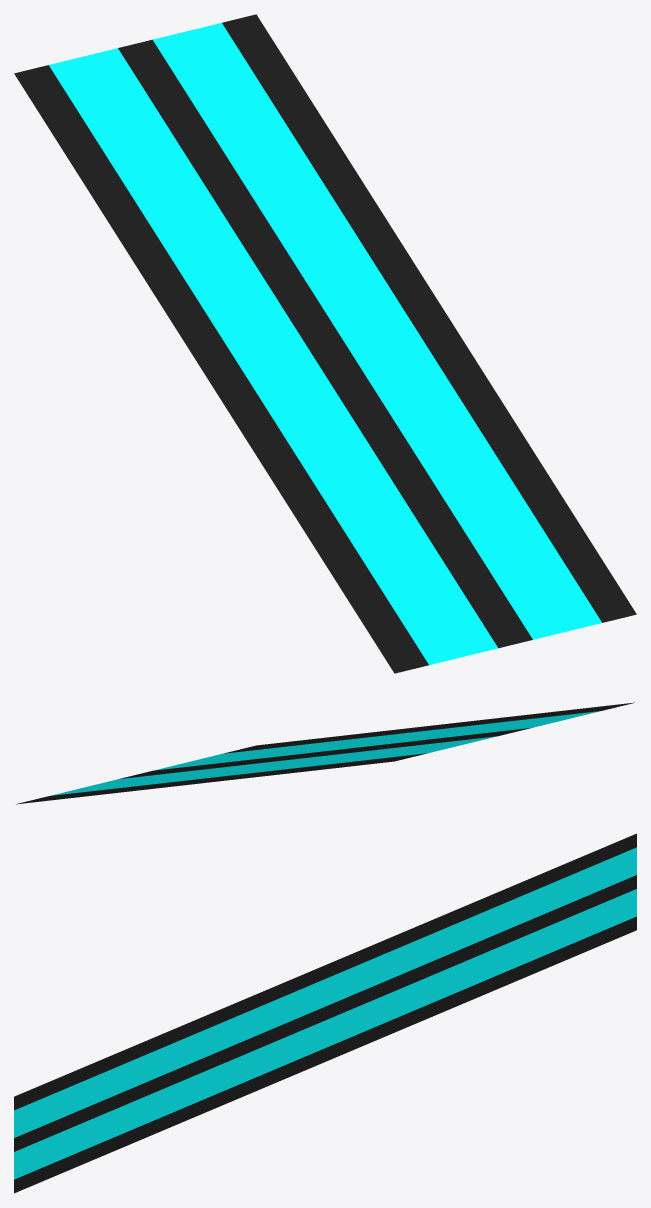
Rendered from RaceTrack_Up25Degree_15m 1.fbx.
3 views of the same model, one above another, from view 1: azimuth 30°, elevation 25°; view 2: azimuth 210°, elevation 25°; view 3: azimuth 270°, elevation 25° (orthographic). The views are drawn at different scales.
Visible parts, largest first — view 1: Up25Degree_15m; view 2: Up25Degree_15m; view 3: Up25Degree_15m.
Boxes of the visible parts, bbox=[...] form: Up25Degree_15m: bbox=[14, 14, 636, 673]; Up25Degree_15m: bbox=[16, 702, 634, 804]; Up25Degree_15m: bbox=[14, 833, 636, 1193].
Bounding box in the file's own units: 5 × 6.34 × 13.59.
